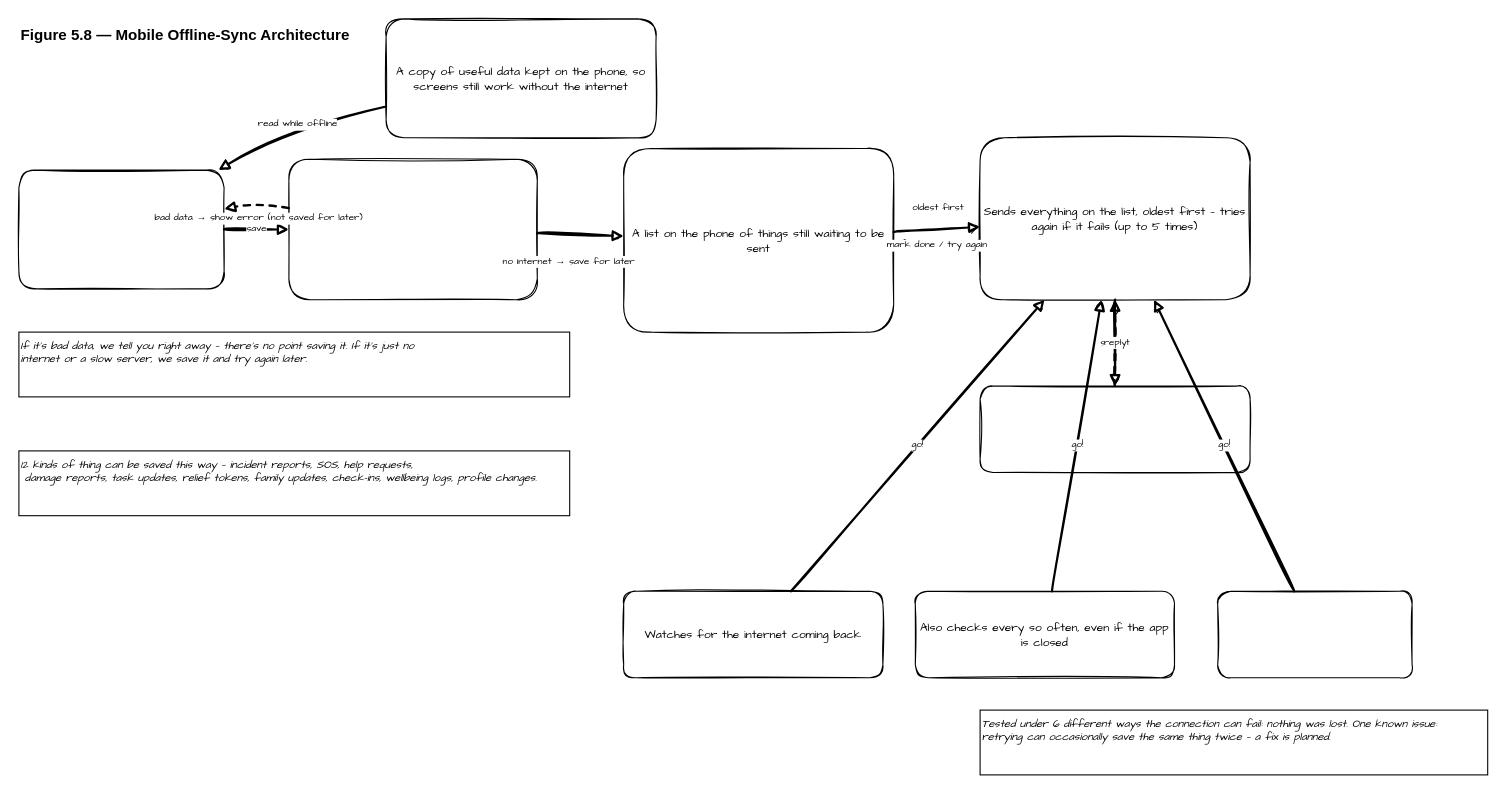
Some shapes in this 1507 by 794 pixel diagram are drawn without their labels. The shapes that lost their labels are listed below. From the top down, each one's centre as x and y in pixels, then its label:
(121,229): 25 screens in the app
(412,229): Every 'Save' button tries the internet first (gives up after 8 seconds)
(1114,429): The server
(1314,634): ...or when you open the app again
